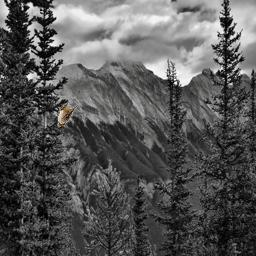Sparrow: (58, 103, 79, 127)
